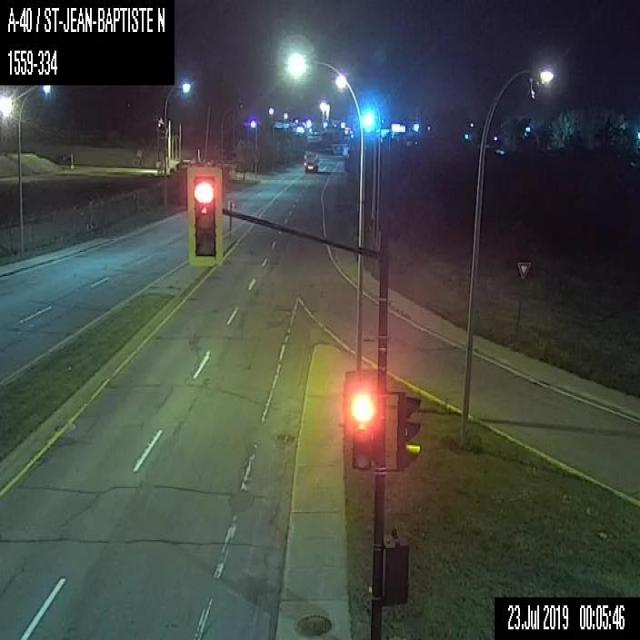vehicle: (302, 150, 318, 172)
